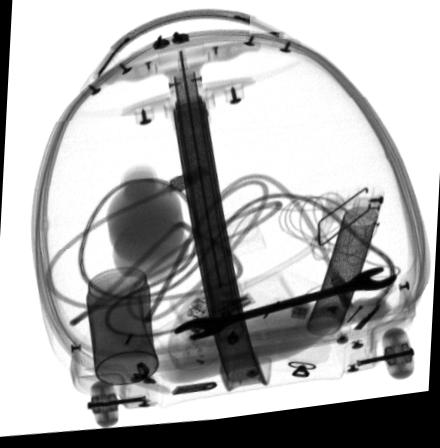Wrench: (173, 276, 397, 345)
